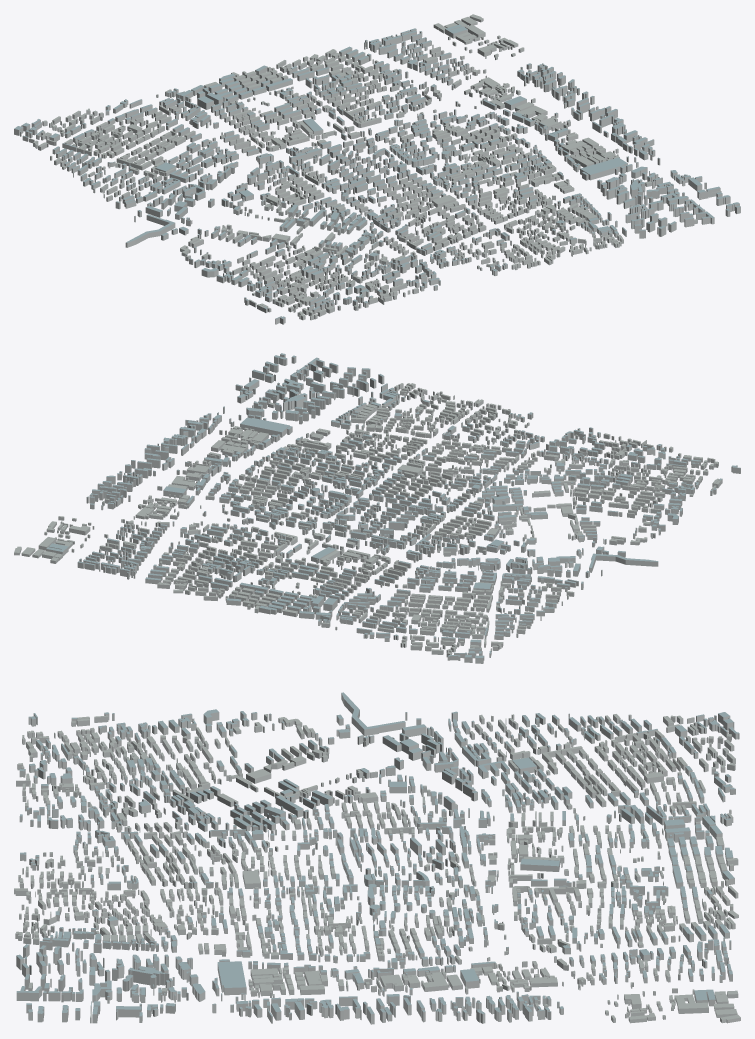
The model's file is far.glb.
The picture shows the model from 3 angles, top to bottom: view 1: azimuth 30°, elevation 25°; view 2: azimuth 150°, elevation 25°; view 3: azimuth 270°, elevation 25°; orthographic projection. The views are drawn at different scales.
Size of the model in its own units: 2254 by 38.3 by 2126.
